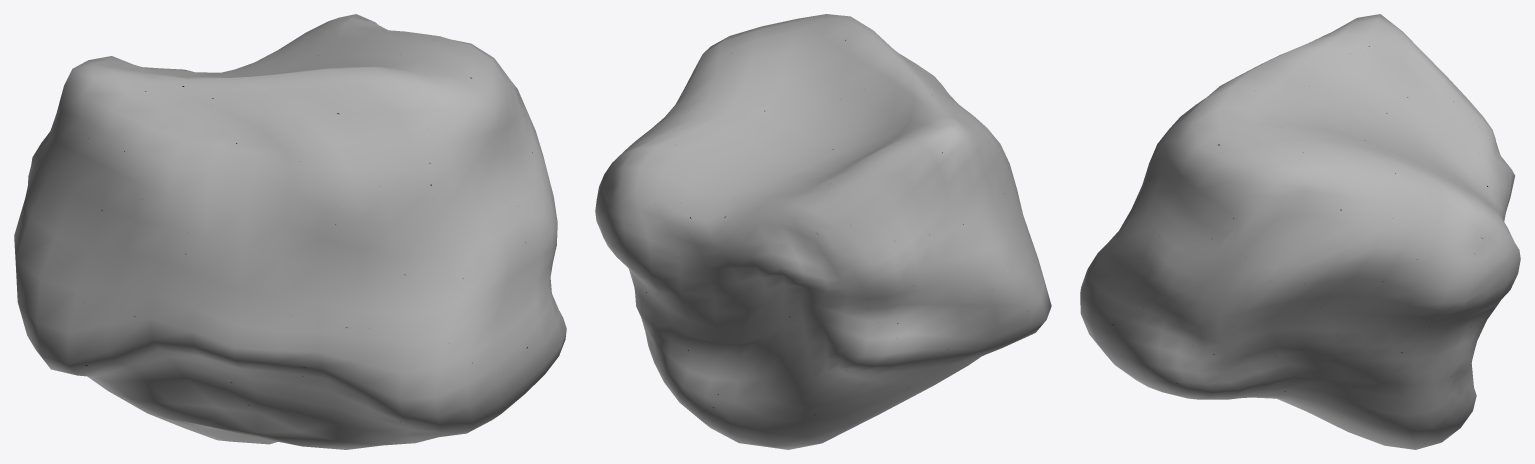
Rendered from WaxWorld_Boulder_3.fbx.
3 renders of one model, left to right at view 1: azimuth 30°, elevation 25°; view 2: azimuth 150°, elevation 25°; view 3: azimuth 270°, elevation 25°, orthographic. The views are drawn at different scales.
Visible parts, largest first — view 1: Box001; view 2: Box001; view 3: Box001.
Boxes of the visible parts, x1,y1,x2,y2 form: Box001: (14,14,566,449); Box001: (595,14,1051,449); Box001: (1080,14,1520,449).
Bounding box in the file's own units: 156 × 139 × 155.
Materials: 1 (1 with a texture image).
